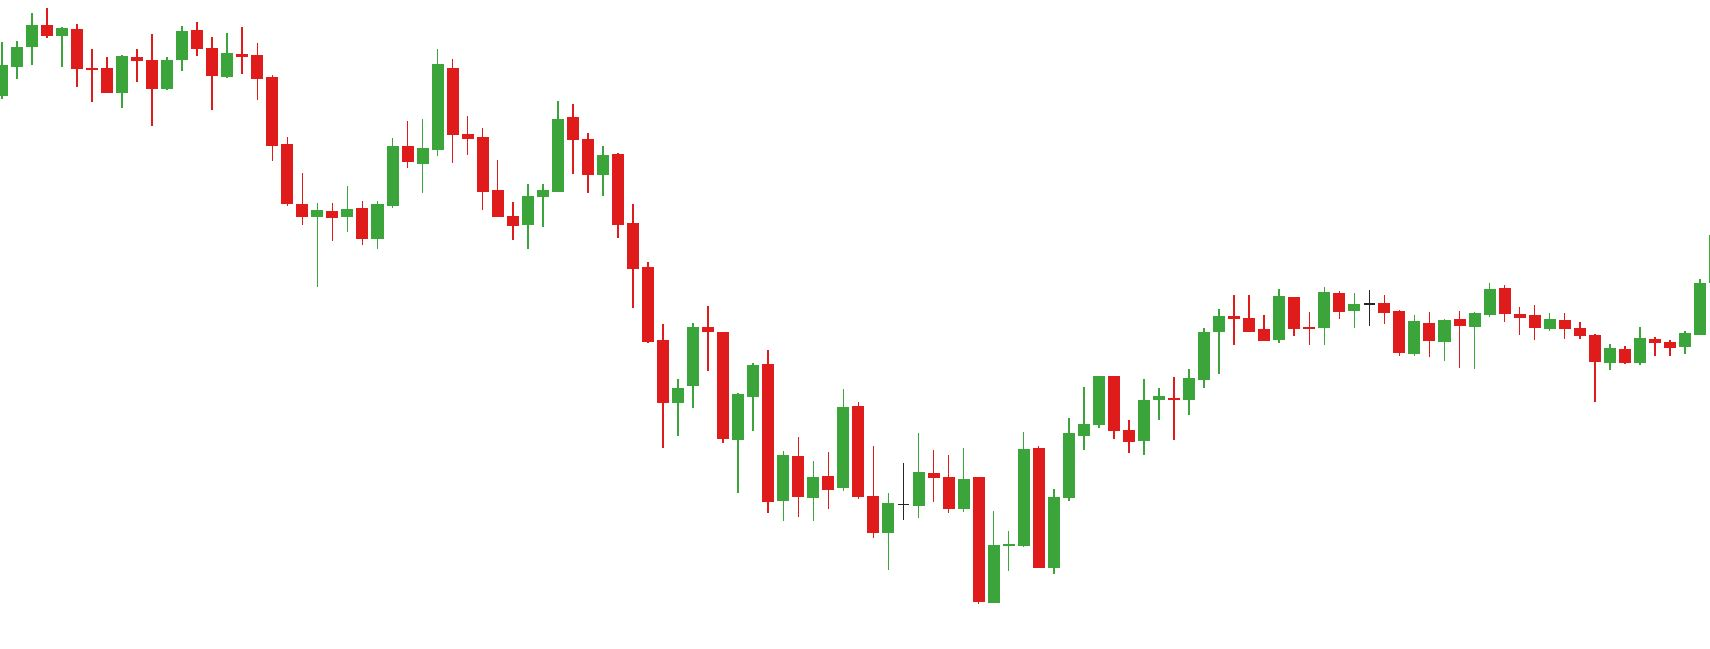buy: (879, 457, 1004, 608)
sell: (458, 99, 581, 201)
